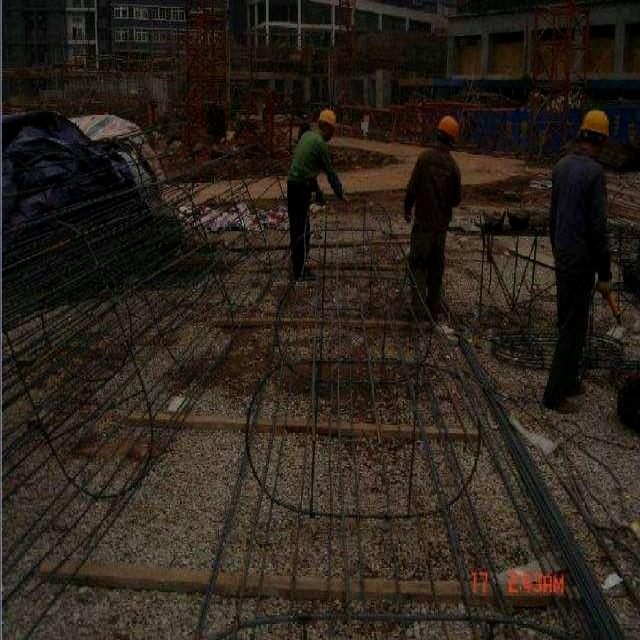head_helmet: (576, 106, 616, 136), (437, 111, 462, 136), (316, 106, 336, 124)
person: (538, 103, 617, 403), (407, 106, 465, 318), (286, 102, 344, 288)
